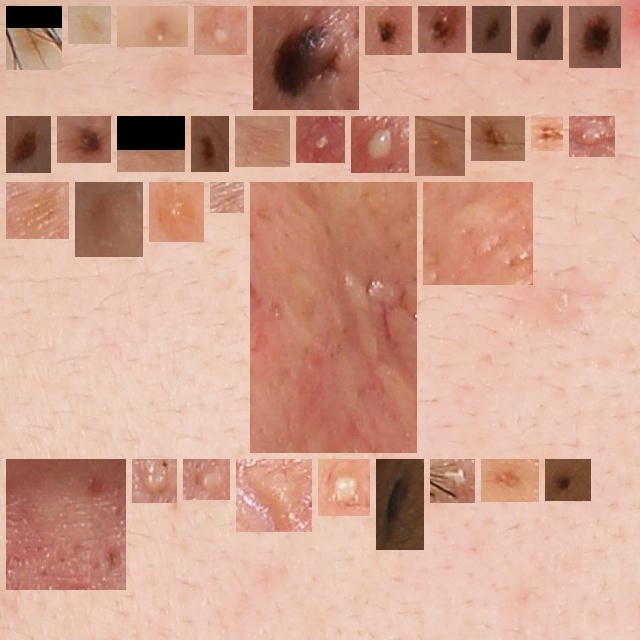hypertrophic_scar: (258, 190, 409, 445), (14, 467, 118, 582), (431, 190, 525, 277), (244, 467, 304, 524), (140, 467, 169, 495), (191, 467, 222, 492)
melasma: (83, 190, 135, 249), (125, 124, 177, 164), (14, 190, 61, 231), (14, 14, 54, 62), (157, 190, 196, 234), (423, 124, 457, 168), (243, 124, 282, 159), (489, 467, 531, 494), (76, 14, 103, 36), (218, 190, 236, 205)
nevus: (261, 14, 351, 102), (384, 467, 416, 542), (577, 14, 613, 60), (14, 124, 43, 165), (65, 124, 103, 155), (525, 14, 555, 52), (479, 124, 517, 153), (373, 14, 404, 47), (426, 14, 458, 45), (199, 124, 221, 164), (553, 467, 583, 493), (480, 14, 503, 45), (539, 124, 555, 143)
pustule: (359, 124, 401, 165), (326, 467, 362, 508), (202, 14, 239, 47), (304, 124, 337, 155), (438, 467, 467, 495), (577, 124, 607, 149)
